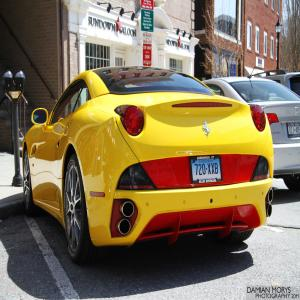Vehicle-registration-plate: (191, 158, 224, 184), (288, 123, 300, 139)
